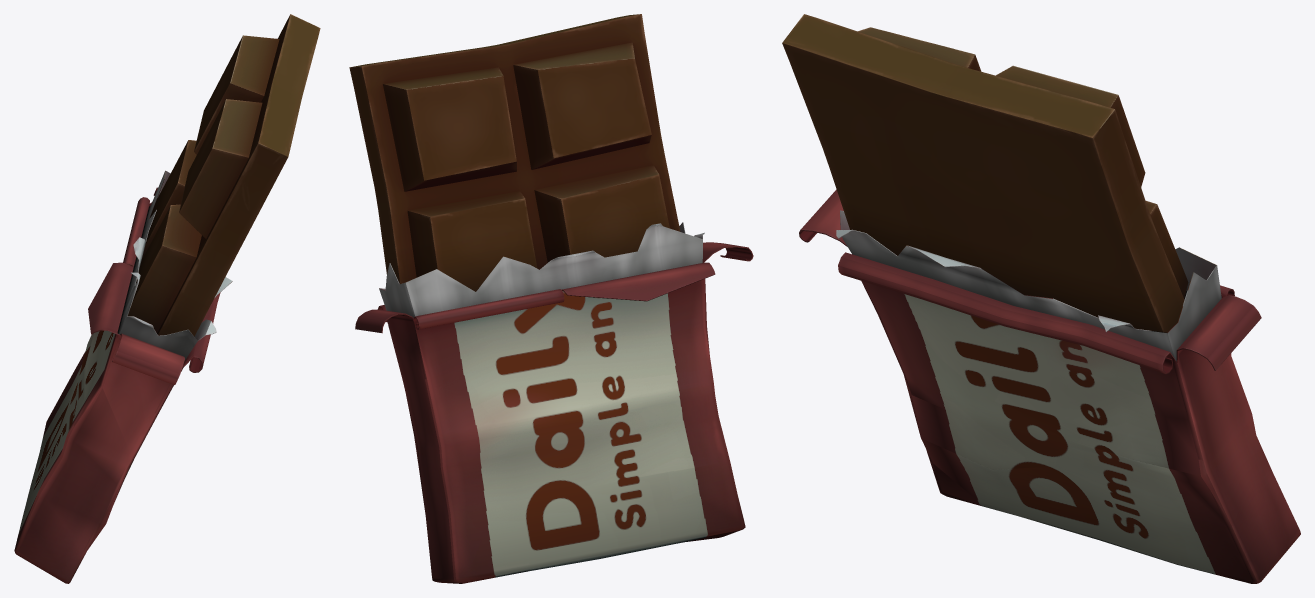
File: Choco.fbx
3 renders of one model, left to right at view 1: azimuth 30°, elevation 25°; view 2: azimuth 150°, elevation 25°; view 3: azimuth 270°, elevation 25°, orthographic. The views are drawn at different scales.
Parts seen in each view (by area): view 1: Cube; view 2: Cube; view 3: Cube.
Part boxes in pixels (x1,y1,x2,y2): Cube: (14,14,320,583); Cube: (349,14,753,583); Cube: (782,14,1300,583).
Size of the model in its own units: 157 by 193 by 161.
1 material, 1 textured.
